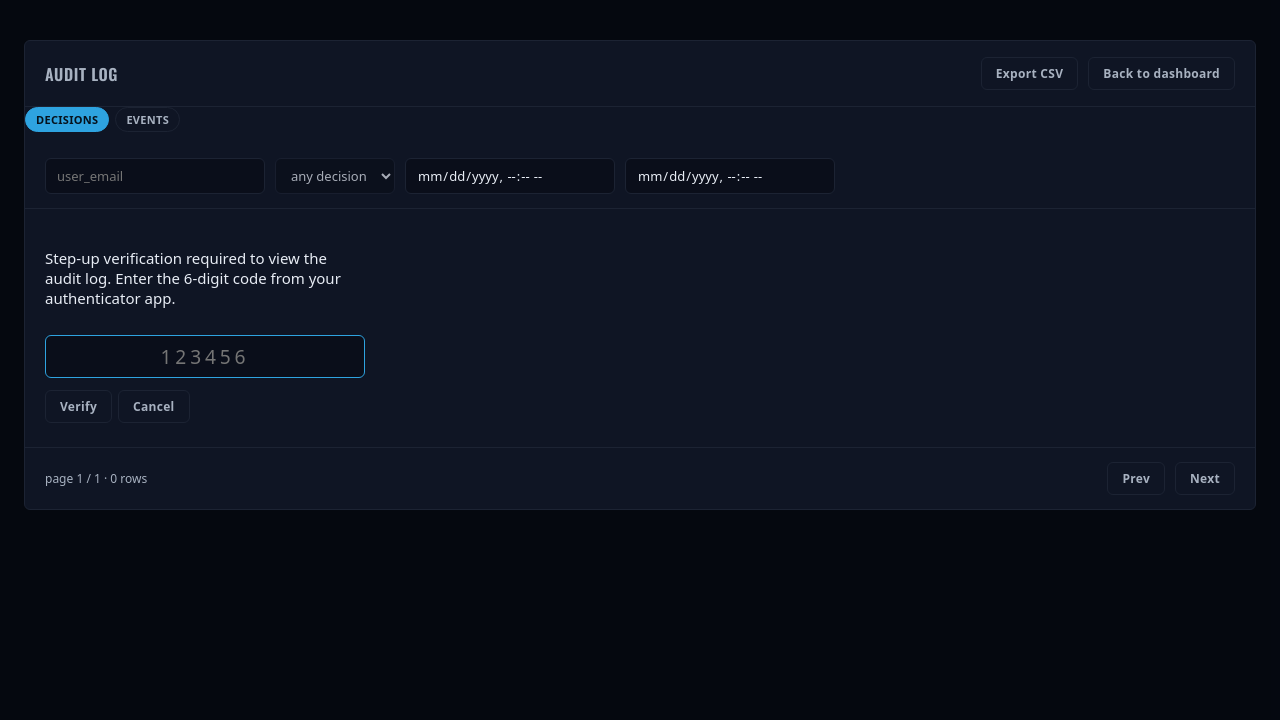
Test: AuditView step-up handling › a wrong code shows a specific inline error and keeps the prompt open
Type "000000" into the field with placeholder "123456" at (205, 356), box x1=45 y1=335 x2=365 y2=378
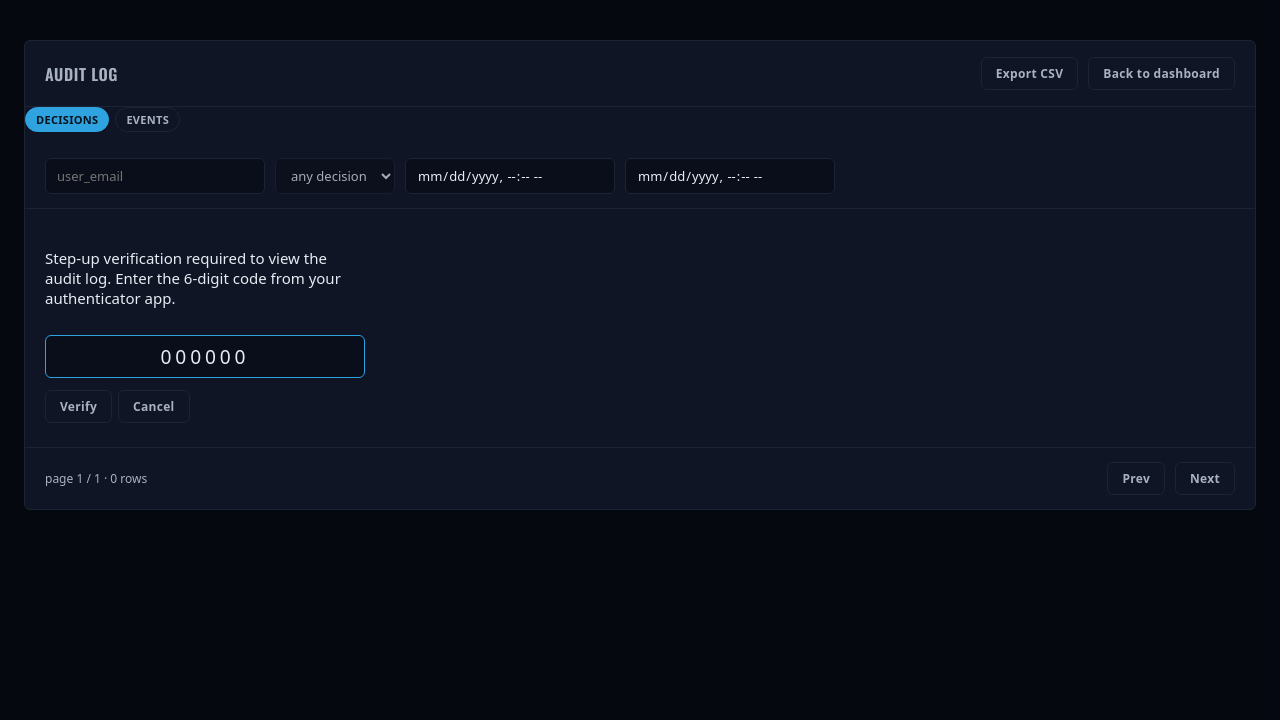
Click the button "Verify" at (78, 406), box x1=45 y1=390 x2=112 y2=423
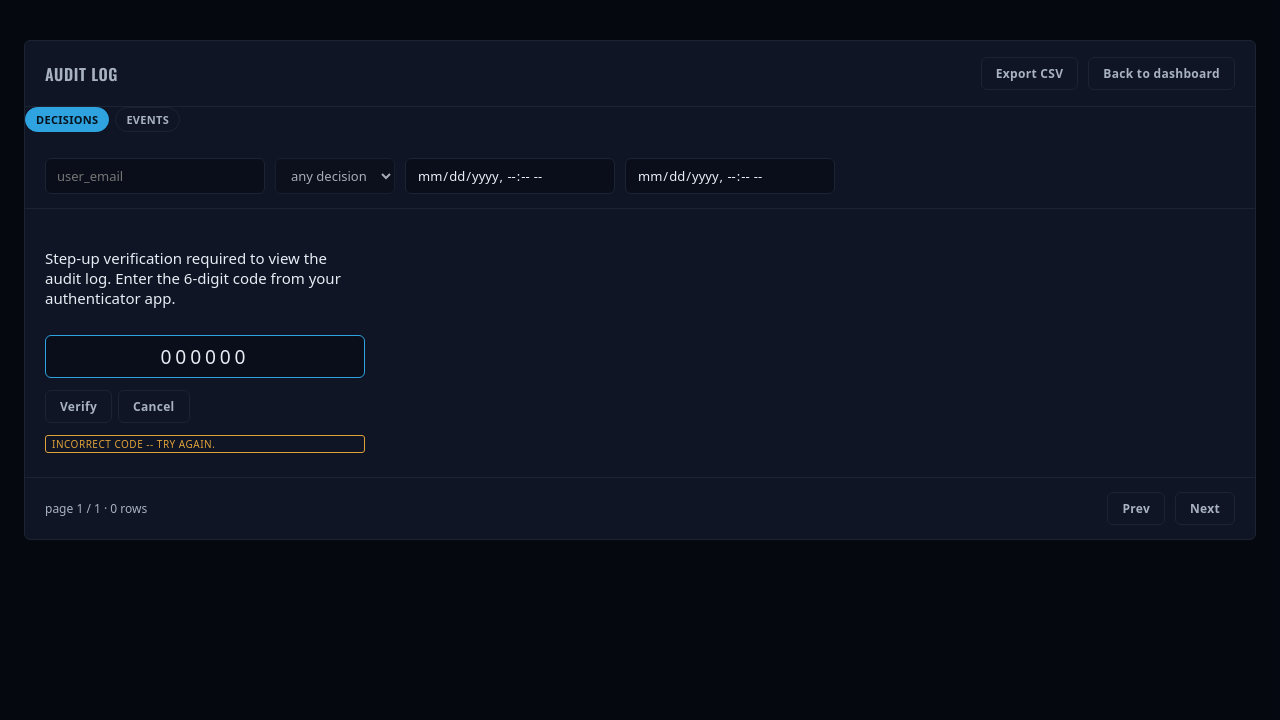
Now the text "Incorrect code -- try again." is shown, box x1=45 y1=435 x2=365 y2=453
